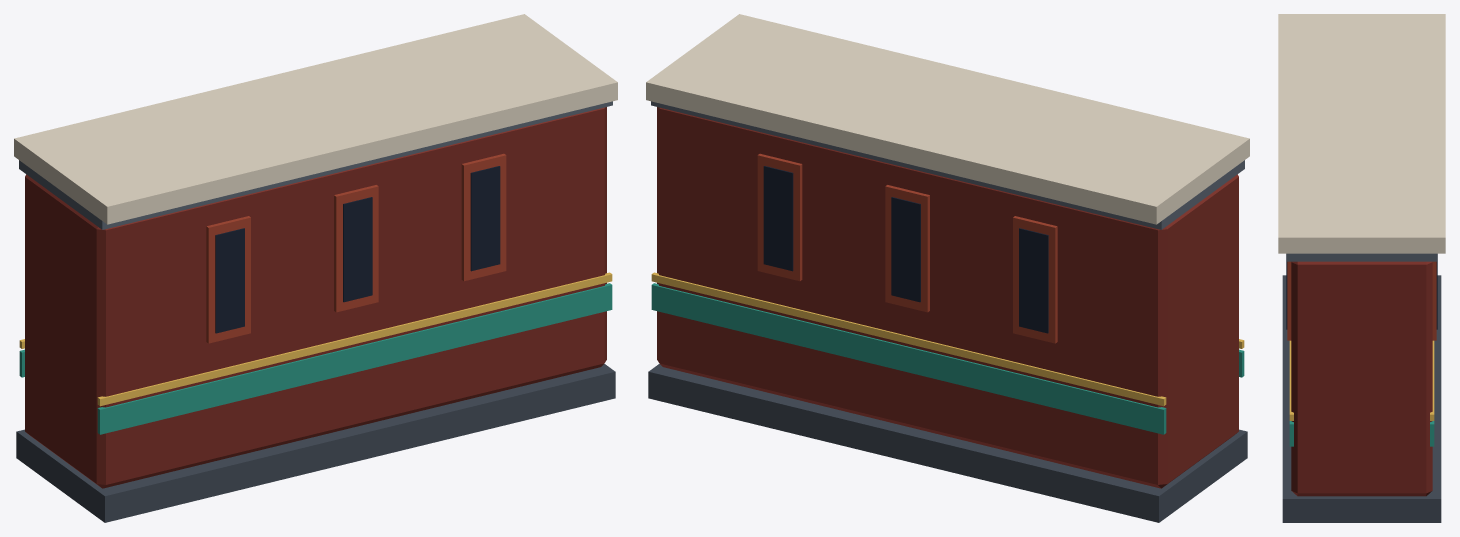
File: bld_ug_wall.glb
The picture shows the model from 3 angles, left to right: view 1: azimuth 30°, elevation 25°; view 2: azimuth 150°, elevation 25°; view 3: azimuth 270°, elevation 25°; orthographic projection. The views are drawn at different scales.
Visible parts, largest first — view 1: bld_ug_wall; view 2: bld_ug_wall; view 3: bld_ug_wall.
Boxes of the visible parts, box(x1,y1,x2,y2) form: bld_ug_wall: box(14, 14, 617, 522); bld_ug_wall: box(646, 14, 1249, 522); bld_ug_wall: box(1278, 14, 1445, 522).
Bounding box in the file's own units: 6.02 × 3.57 × 1.9.
Materials: 1 (1 with a texture image).
